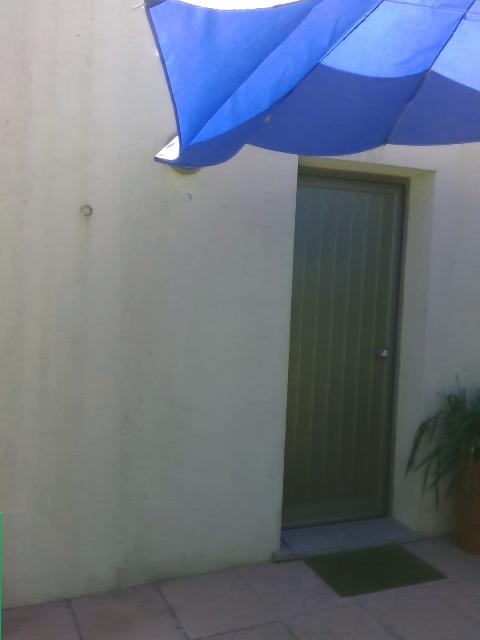closed_door: (283, 164, 410, 542)
